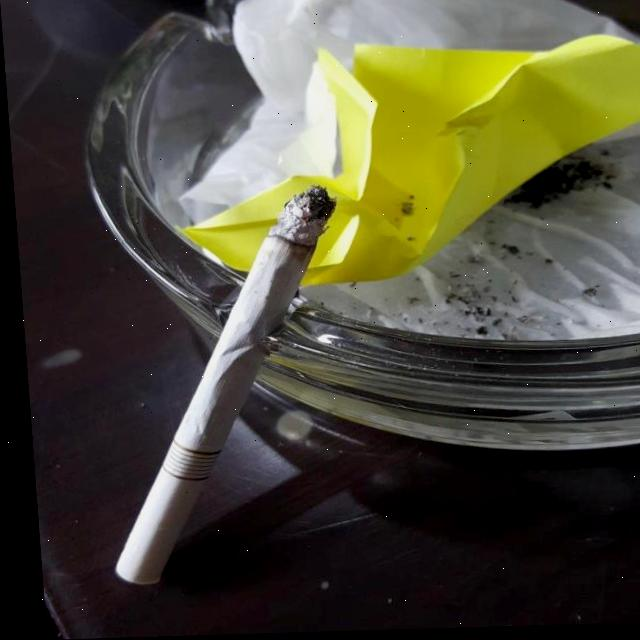cigarette: (85, 188, 355, 585)
